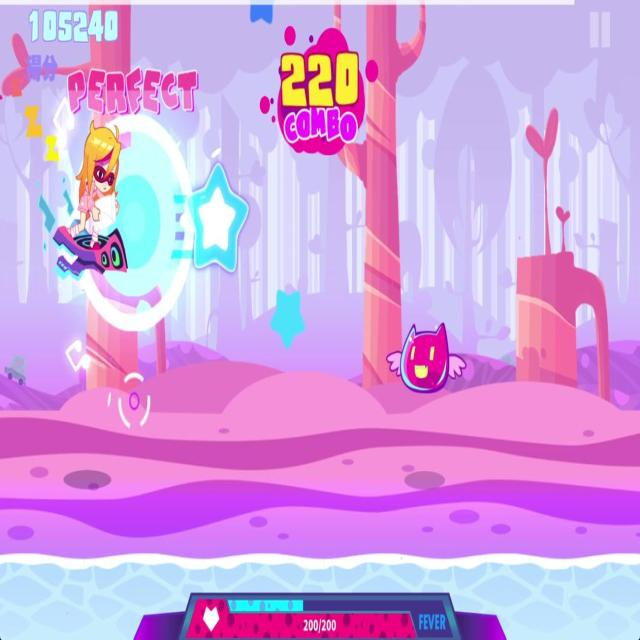hold: (130, 160, 251, 280)
mao: (386, 318, 468, 397)
